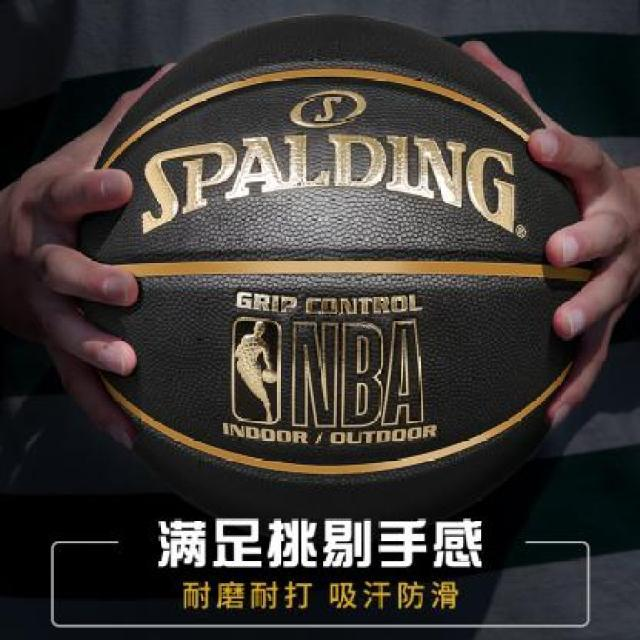basketball: (77, 14, 608, 566)
